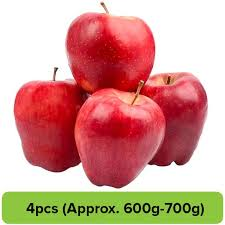apple: (139, 72, 207, 168)
